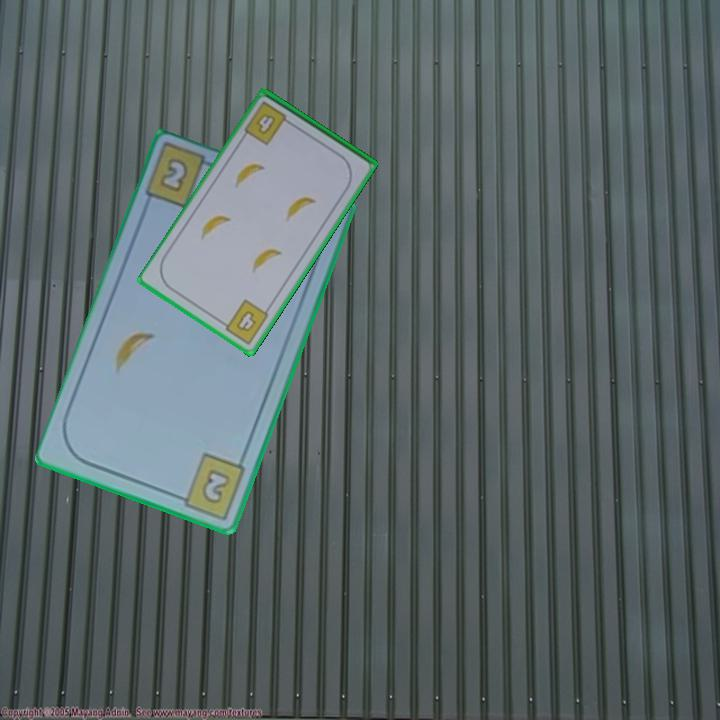2b: (170, 449, 249, 522), (156, 155, 192, 196)
4b: (217, 296, 272, 348), (240, 98, 296, 148)
